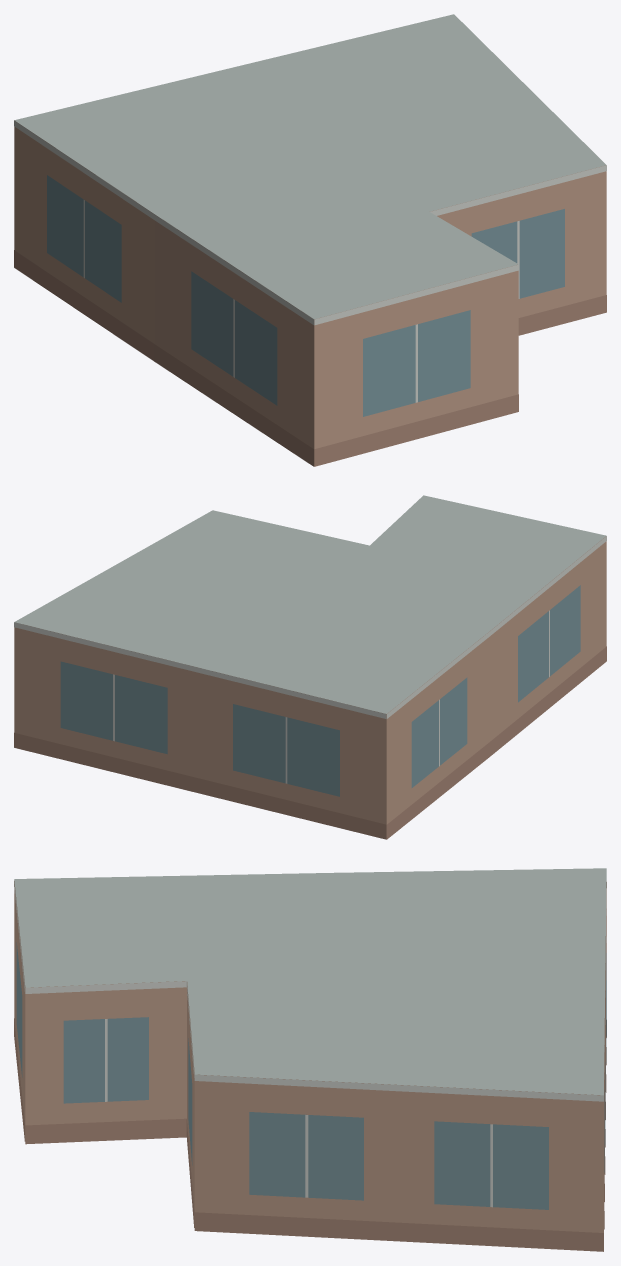
Rendered from survey-upis-32938477.glb.
The picture shows the model from 3 angles, top to bottom: view 1: azimuth 30°, elevation 25°; view 2: azimuth 150°, elevation 25°; view 3: azimuth 270°, elevation 25°; orthographic projection. The views are drawn at different scales.
Parts seen in each view (by area): view 1: survey-upis-32938477.tmp; view 2: survey-upis-32938477.tmp; view 3: survey-upis-32938477.tmp.
Part boxes in pixels (bbox=[...]): survey-upis-32938477.tmp: bbox=[14, 14, 606, 466]; survey-upis-32938477.tmp: bbox=[14, 495, 606, 839]; survey-upis-32938477.tmp: bbox=[14, 868, 606, 1251].
Size of the model in its own units: 9.51 by 3.05 by 10.48.
